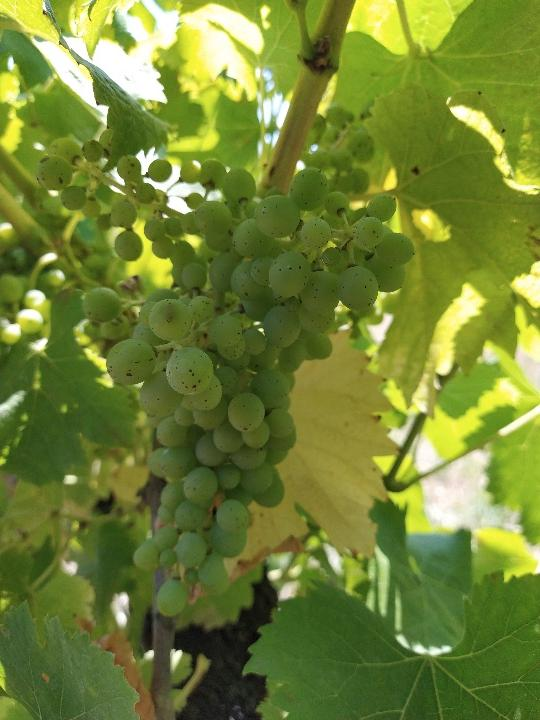grape: (33, 130, 415, 619)
